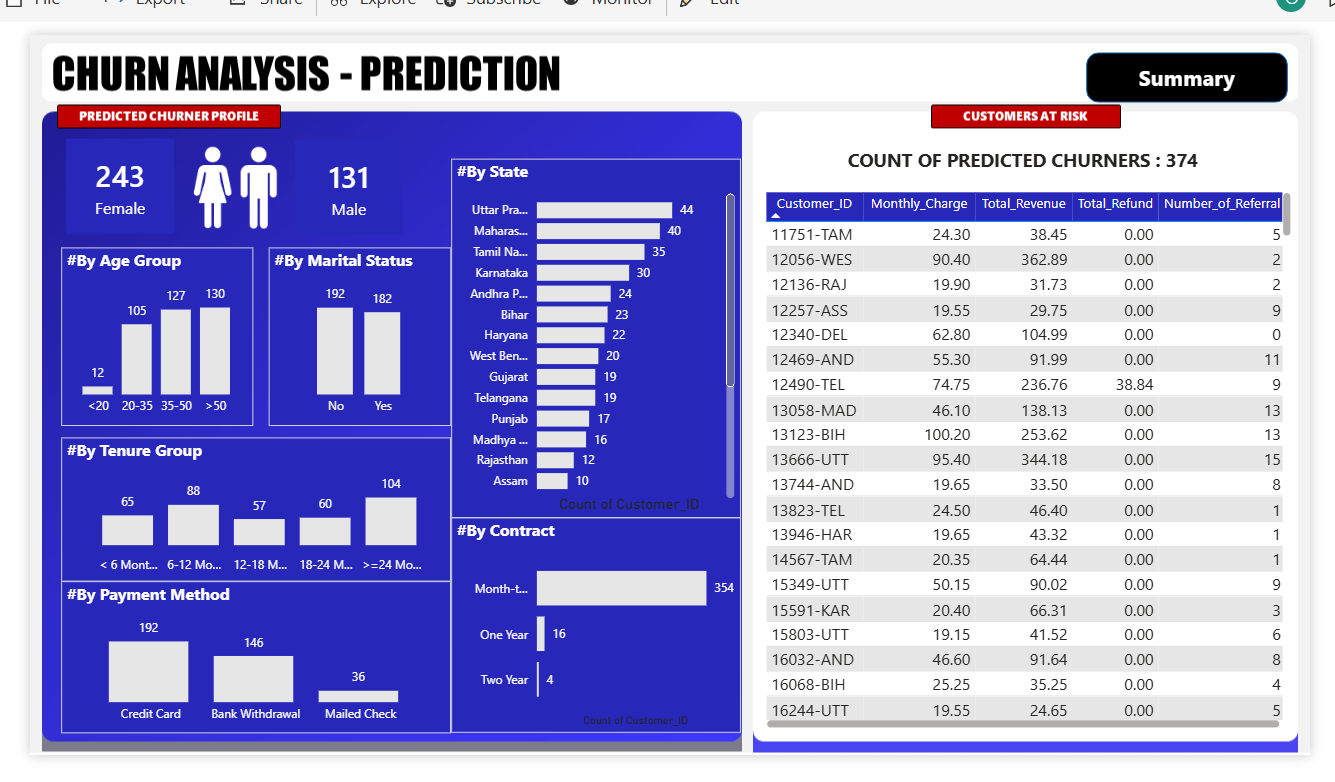

The page's visual inventory and layout, read from the dashboard file:
{"tool":"powerbi","page":{"name":"Churn Prediction","canvas":[1280,720],"ordinal":2},"visuals":[{"type":"tableEx","fields":{"Values":["Predictions.Customer_ID","Sum(Predictions.Monthly_Charge)","Sum(Predictions.Total_Revenue)","Sum(Predictions.Total_Refunds)","Sum(Predictions.Number_of_Referrals)"]},"box":[730,152.3,536.5,546.1],"z":0},{"type":"cardVisual","fields":{"Data":["Table_Measures.Title Predicted Churner"]},"box":[789,93.3,419.9,59],"z":1000},{"type":"cardVisual","fields":{"Data":["Table_Measures.Count Predicted Churner"]},"box":[31.6,98.8,118,105.7],"z":2000},{"type":"cardVisual","fields":{"Data":["Table_Measures.Count Predicted Churner"]},"box":[260,100,118.6,105.7],"z":3000},{"type":"clusteredColumnChart","title":"#By Age Group","fields":{"Category":["mapping_Agegrp.AgeGroup"],"Y":["CountNonNull(Predictions.Customer_ID)"]},"box":[31.6,212.7,192.1,178.4],"z":4000},{"type":"clusteredColumnChart","title":"#By Marital Status","fields":{"Category":["Predictions.Married"],"Y":["CountNonNull(Predictions.Customer_ID)"]},"box":[238.8,212.7,182.5,178.4],"z":5000},{"type":"clusteredColumnChart","title":"#By Tenure Group","fields":{"Y":["CountNonNull(Predictions.Customer_ID)"],"Category":["mapping_tenureGrp.Tenure Group"]},"box":[31.6,402.1,389.7,144.1],"z":6000},{"type":"clusteredColumnChart","title":"#By Payment Method","fields":{"Y":["CountNonNull(Predictions.Customer_ID)"],"Category":["Predictions.Payment_Method"]},"box":[31.6,546.1,389.7,152.3],"z":7000},{"type":"clusteredBarChart","title":"#By Contract","fields":{"Category":["Predictions.Contract"],"Y":["CountNonNull(Predictions.Customer_ID)"]},"box":[421.3,483,289.5,215.4],"z":8000},{"type":"clusteredBarChart","title":"#By State","fields":{"Category":["Predictions.State"],"Y":["CountNonNull(Predictions.Customer_ID)"]},"box":[421.3,123.5,289.5,359.5],"z":9000},{"type":"shape","box":[1055.7,17.1,201.4,50],"z":10000},{"type":"image","box":[149.8,100,110,104.3],"z":11000}]}

Visuals, with their boxes on the page's 1280x720 design canvas (x1, y1, x2, y2). These are canvas units, not pixel positions in the 1335x782 screenshot, which may show the page scaled, cropped or inside an application window:
tableEx - Predictions.Customer_ID x Sum(Predictions.Monthly_Charge): bbox(730, 152, 1266, 698)
cardVisual - Table_Measures.Title Predicted Churner: bbox(789, 93, 1209, 152)
cardVisual - Table_Measures.Count Predicted Churner: bbox(32, 99, 150, 204)
cardVisual - Table_Measures.Count Predicted Churner: bbox(260, 100, 379, 206)
"#By Age Group" clusteredColumnChart: bbox(32, 213, 224, 391)
"#By Marital Status" clusteredColumnChart: bbox(239, 213, 421, 391)
"#By Tenure Group" clusteredColumnChart: bbox(32, 402, 421, 546)
"#By Payment Method" clusteredColumnChart: bbox(32, 546, 421, 698)
"#By Contract" clusteredBarChart: bbox(421, 483, 711, 698)
"#By State" clusteredBarChart: bbox(421, 124, 711, 483)
shape: bbox(1056, 17, 1257, 67)
image: bbox(150, 100, 260, 204)
